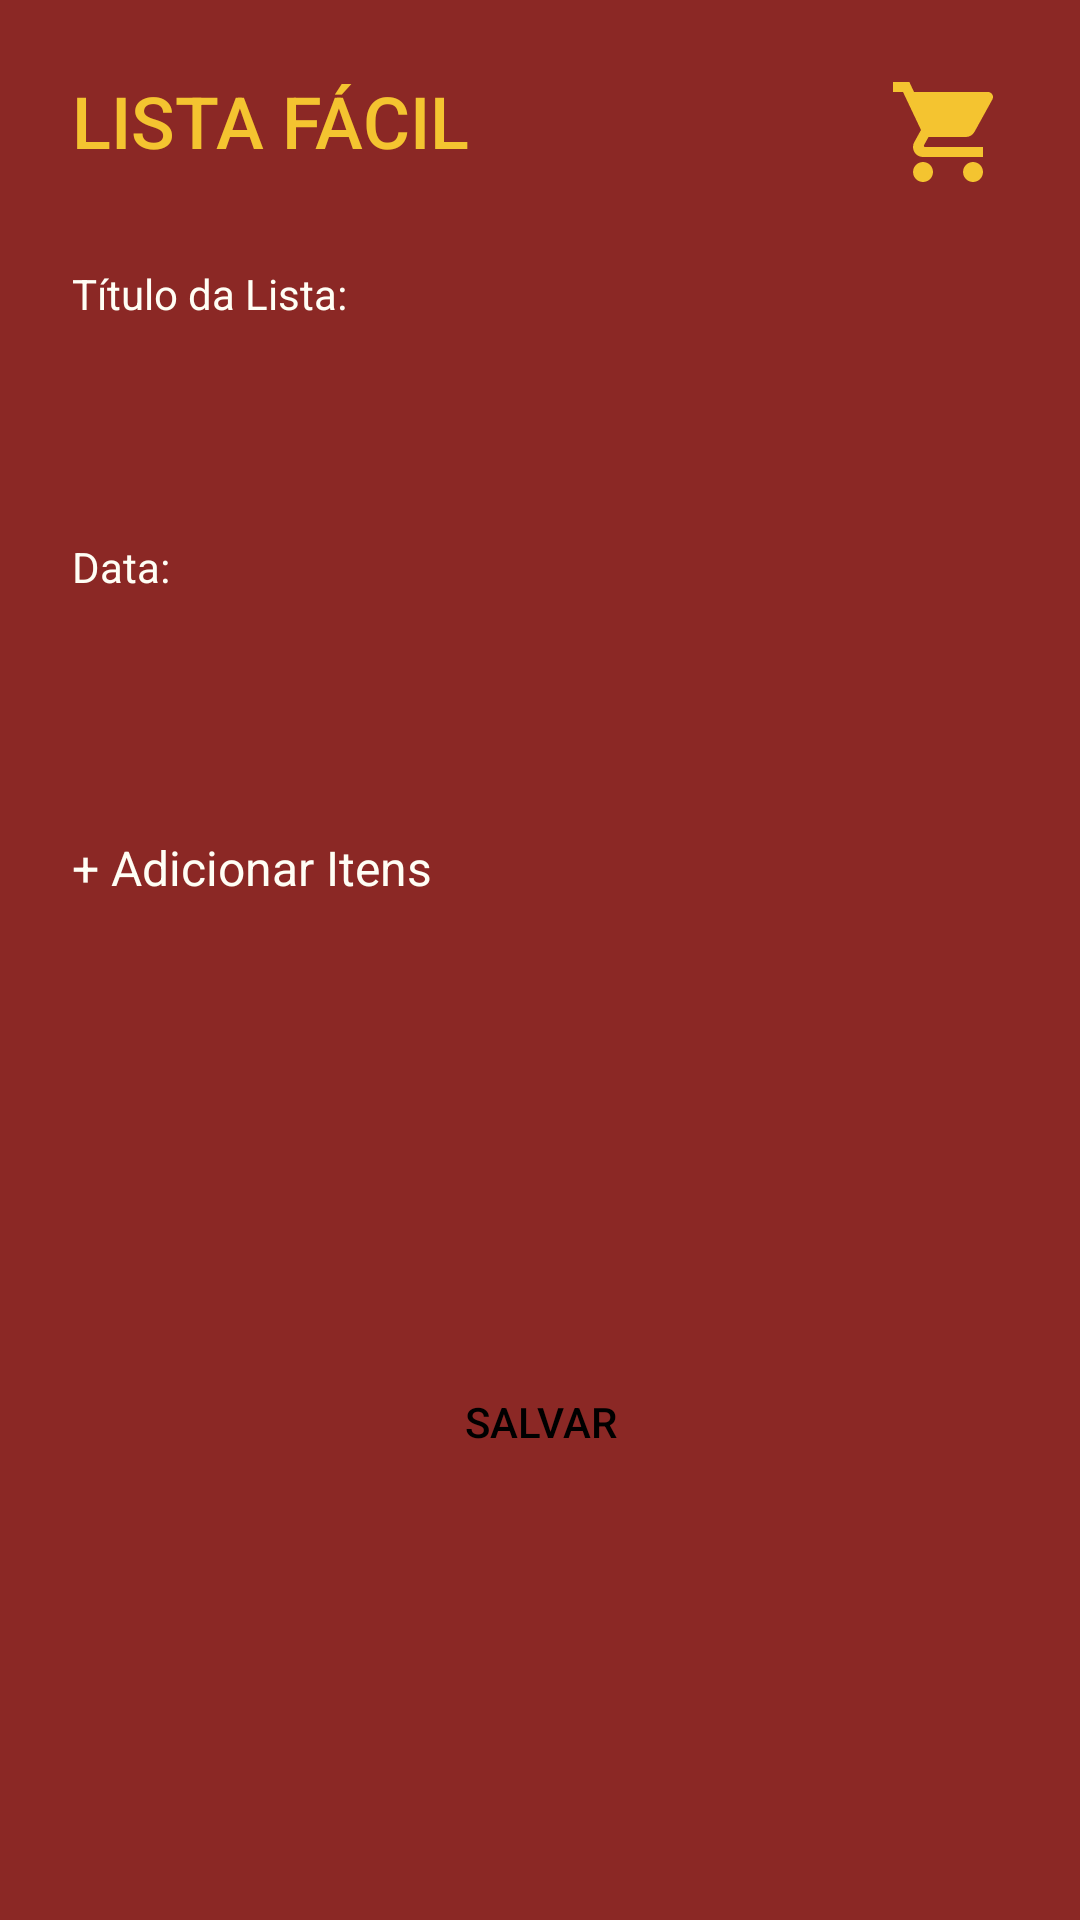

Screen size 1080×1920. Icon name, then its box in pixels as (x1, y1, x2, y2):
cart: (893, 82, 993, 182)
